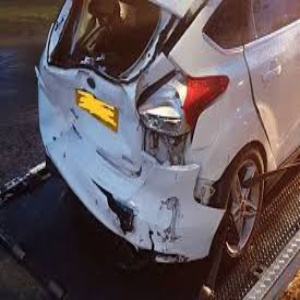bumper: (81, 146, 222, 263)
